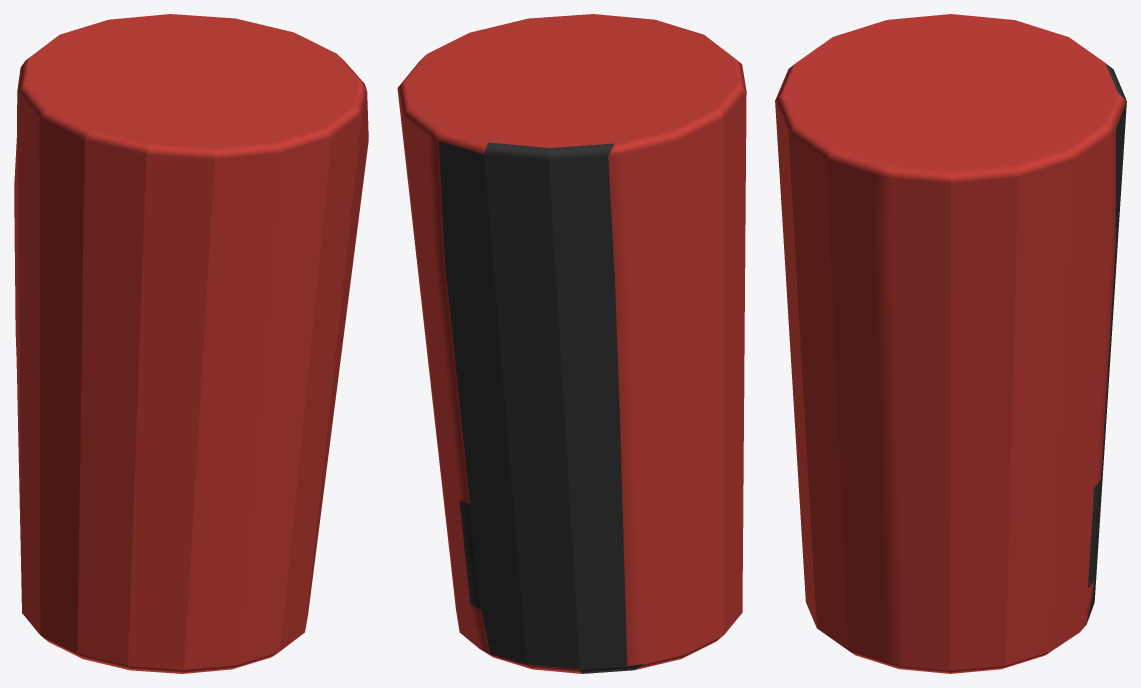
The model's file is SM_SB_Armor_thigh_r.fbx.
3 views of the same model, side by side, from view 1: azimuth 30°, elevation 25°; view 2: azimuth 150°, elevation 25°; view 3: azimuth 270°, elevation 25° (orthographic).
Visible parts, largest first — view 1: SM_SB_Armor_thigh_r; view 2: SM_SB_Armor_thigh_r; view 3: SM_SB_Armor_thigh_r.
Part boxes in pixels (<box>): SM_SB_Armor_thigh_r: <box>14,14,368,673</box>; SM_SB_Armor_thigh_r: <box>397,14,746,673</box>; SM_SB_Armor_thigh_r: <box>775,14,1126,673</box>.
Bounding box in the file's own units: 18.72 × 18.75 × 32.12.
